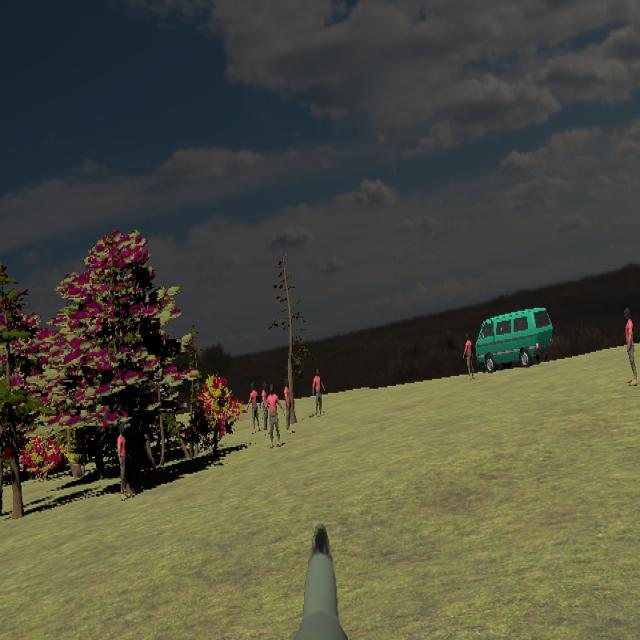Human: (263, 385, 285, 448), (625, 306, 637, 386), (118, 422, 130, 502), (247, 382, 261, 433), (313, 368, 326, 417), (463, 333, 475, 381), (284, 379, 294, 433), (283, 379, 291, 430)
car: (476, 307, 554, 373)
